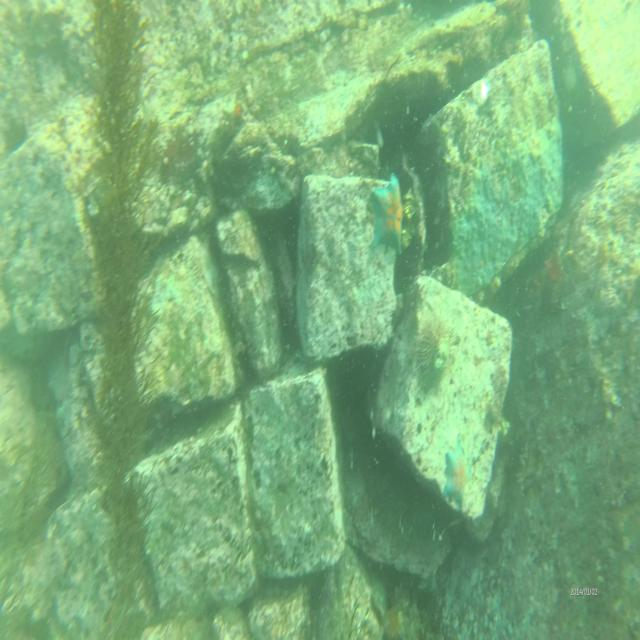echinus: (413, 314, 453, 383)
starfish: (368, 174, 407, 256), (442, 441, 474, 508), (223, 97, 244, 126)
